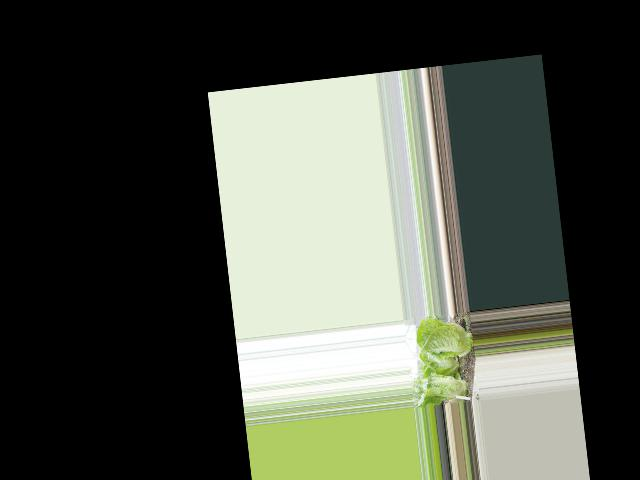lettuce: (415, 367, 474, 403)
